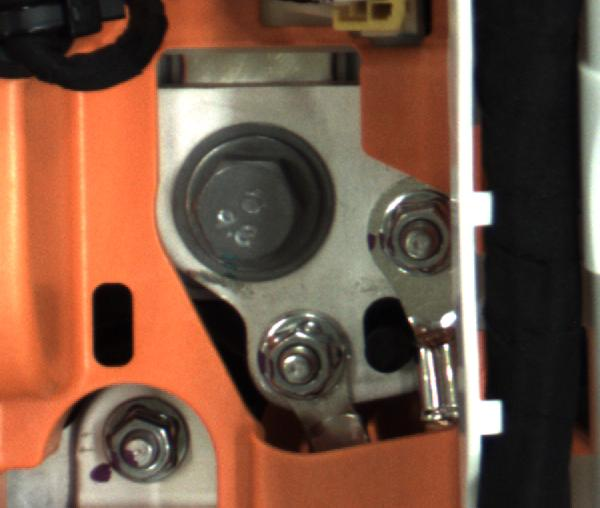nut_b: (170, 117, 330, 284)
screw_s: (249, 312, 347, 420), (91, 398, 190, 486), (369, 193, 456, 282)
